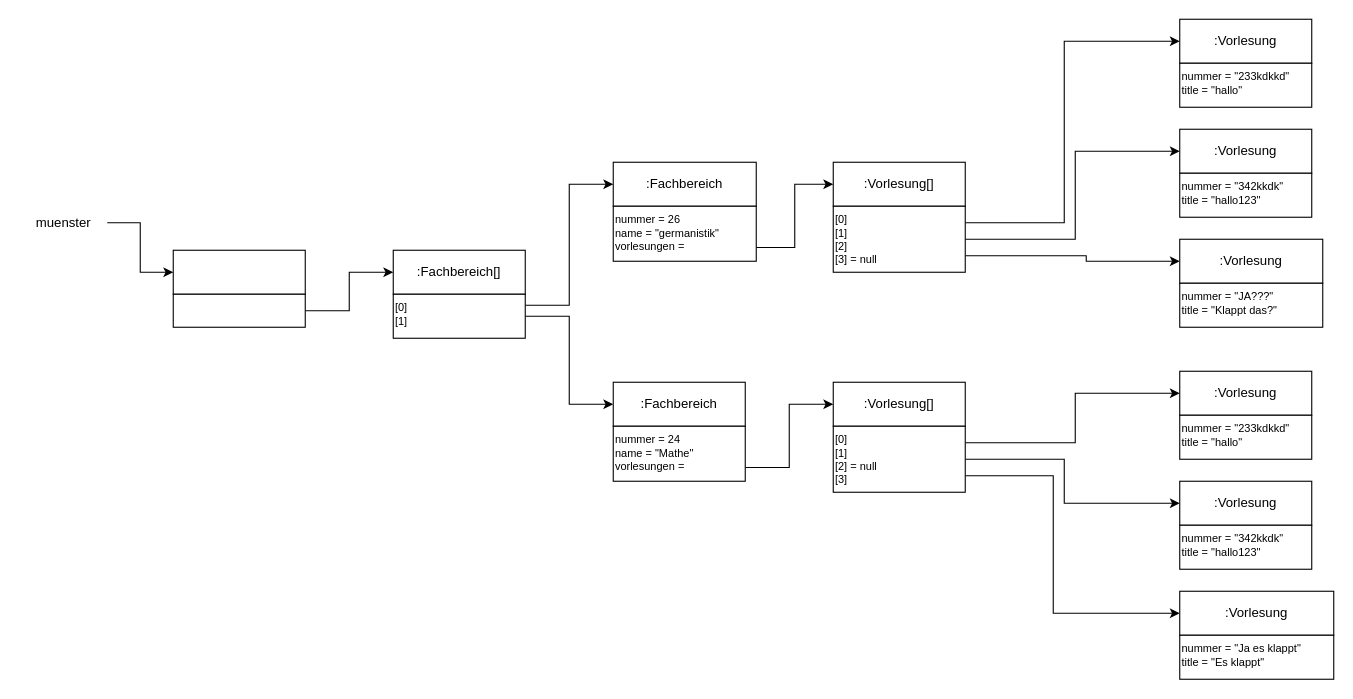
This 1353x699 diagram has some shape labels left out. The shapes that lost their labels are listed below. From the top down, each one's centre as x and y in pixels, then its label:
At (x=238, y=271): ":UniVerwaltung".
At (x=238, y=310): "fachbereiche =".
